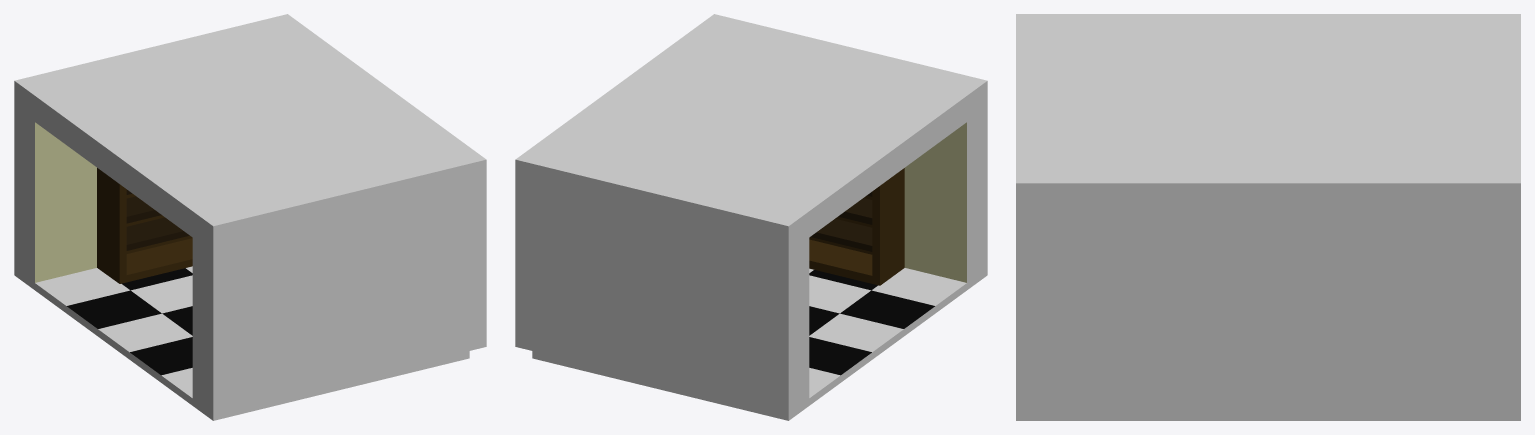
The model's file is backgroundgame_01.FBX.
3 renders of one model, left to right at view 1: azimuth 30°, elevation 25°; view 2: azimuth 150°, elevation 25°; view 3: azimuth 270°, elevation 25°, orthographic. The views are drawn at different scales.
Parts seen in each view (by area): view 1: Box001; view 2: Box001; view 3: Box001.
Part boxes in pixels (x1,y1,x2,y2): Box001: [14, 14, 486, 420]; Box001: [515, 14, 987, 420]; Box001: [1016, 14, 1520, 420].
Bounding box in the file's own units: 1920 × 1307 × 2420.
